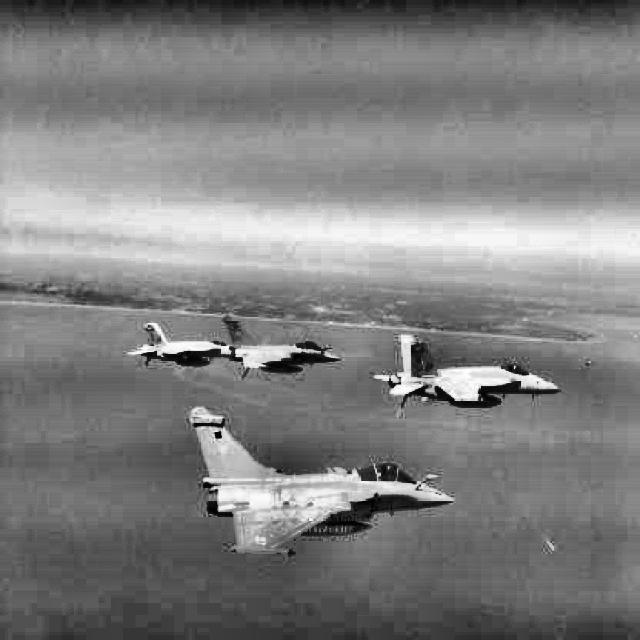F18: (374, 334, 560, 418), (127, 322, 231, 372)
Rafale: (188, 405, 455, 557), (222, 315, 340, 379)
